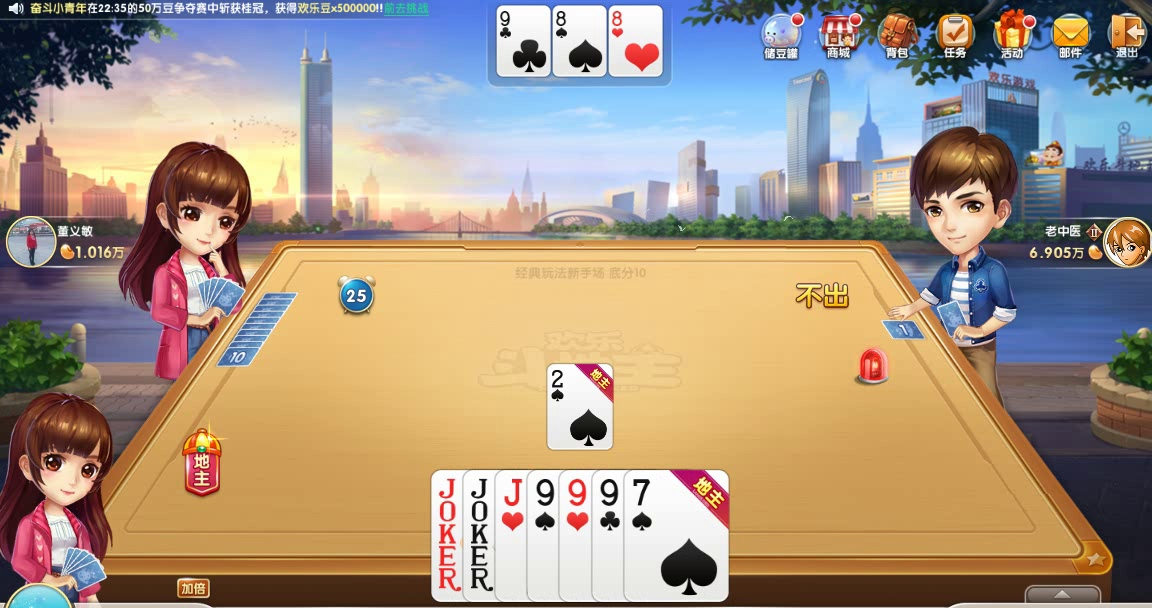11~3: (495, 470, 603, 602)
15~4: (546, 363, 615, 452)
17~3: (462, 469, 570, 601)
18~4: (430, 469, 538, 601)
7~4: (622, 470, 730, 602)
8~3: (609, 4, 664, 76)
8~4: (552, 4, 607, 76)
9~2: (591, 470, 699, 602), (496, 5, 551, 77)
9~3: (558, 470, 666, 602)
9~4: (526, 470, 634, 602)
